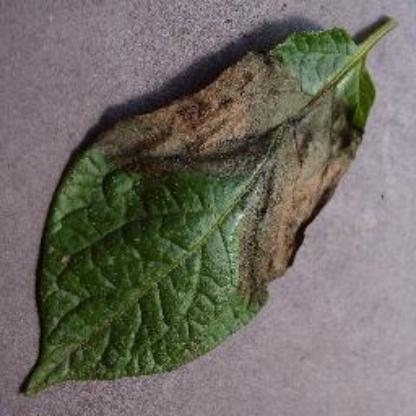Late-Blight: (29, 7, 412, 397)
